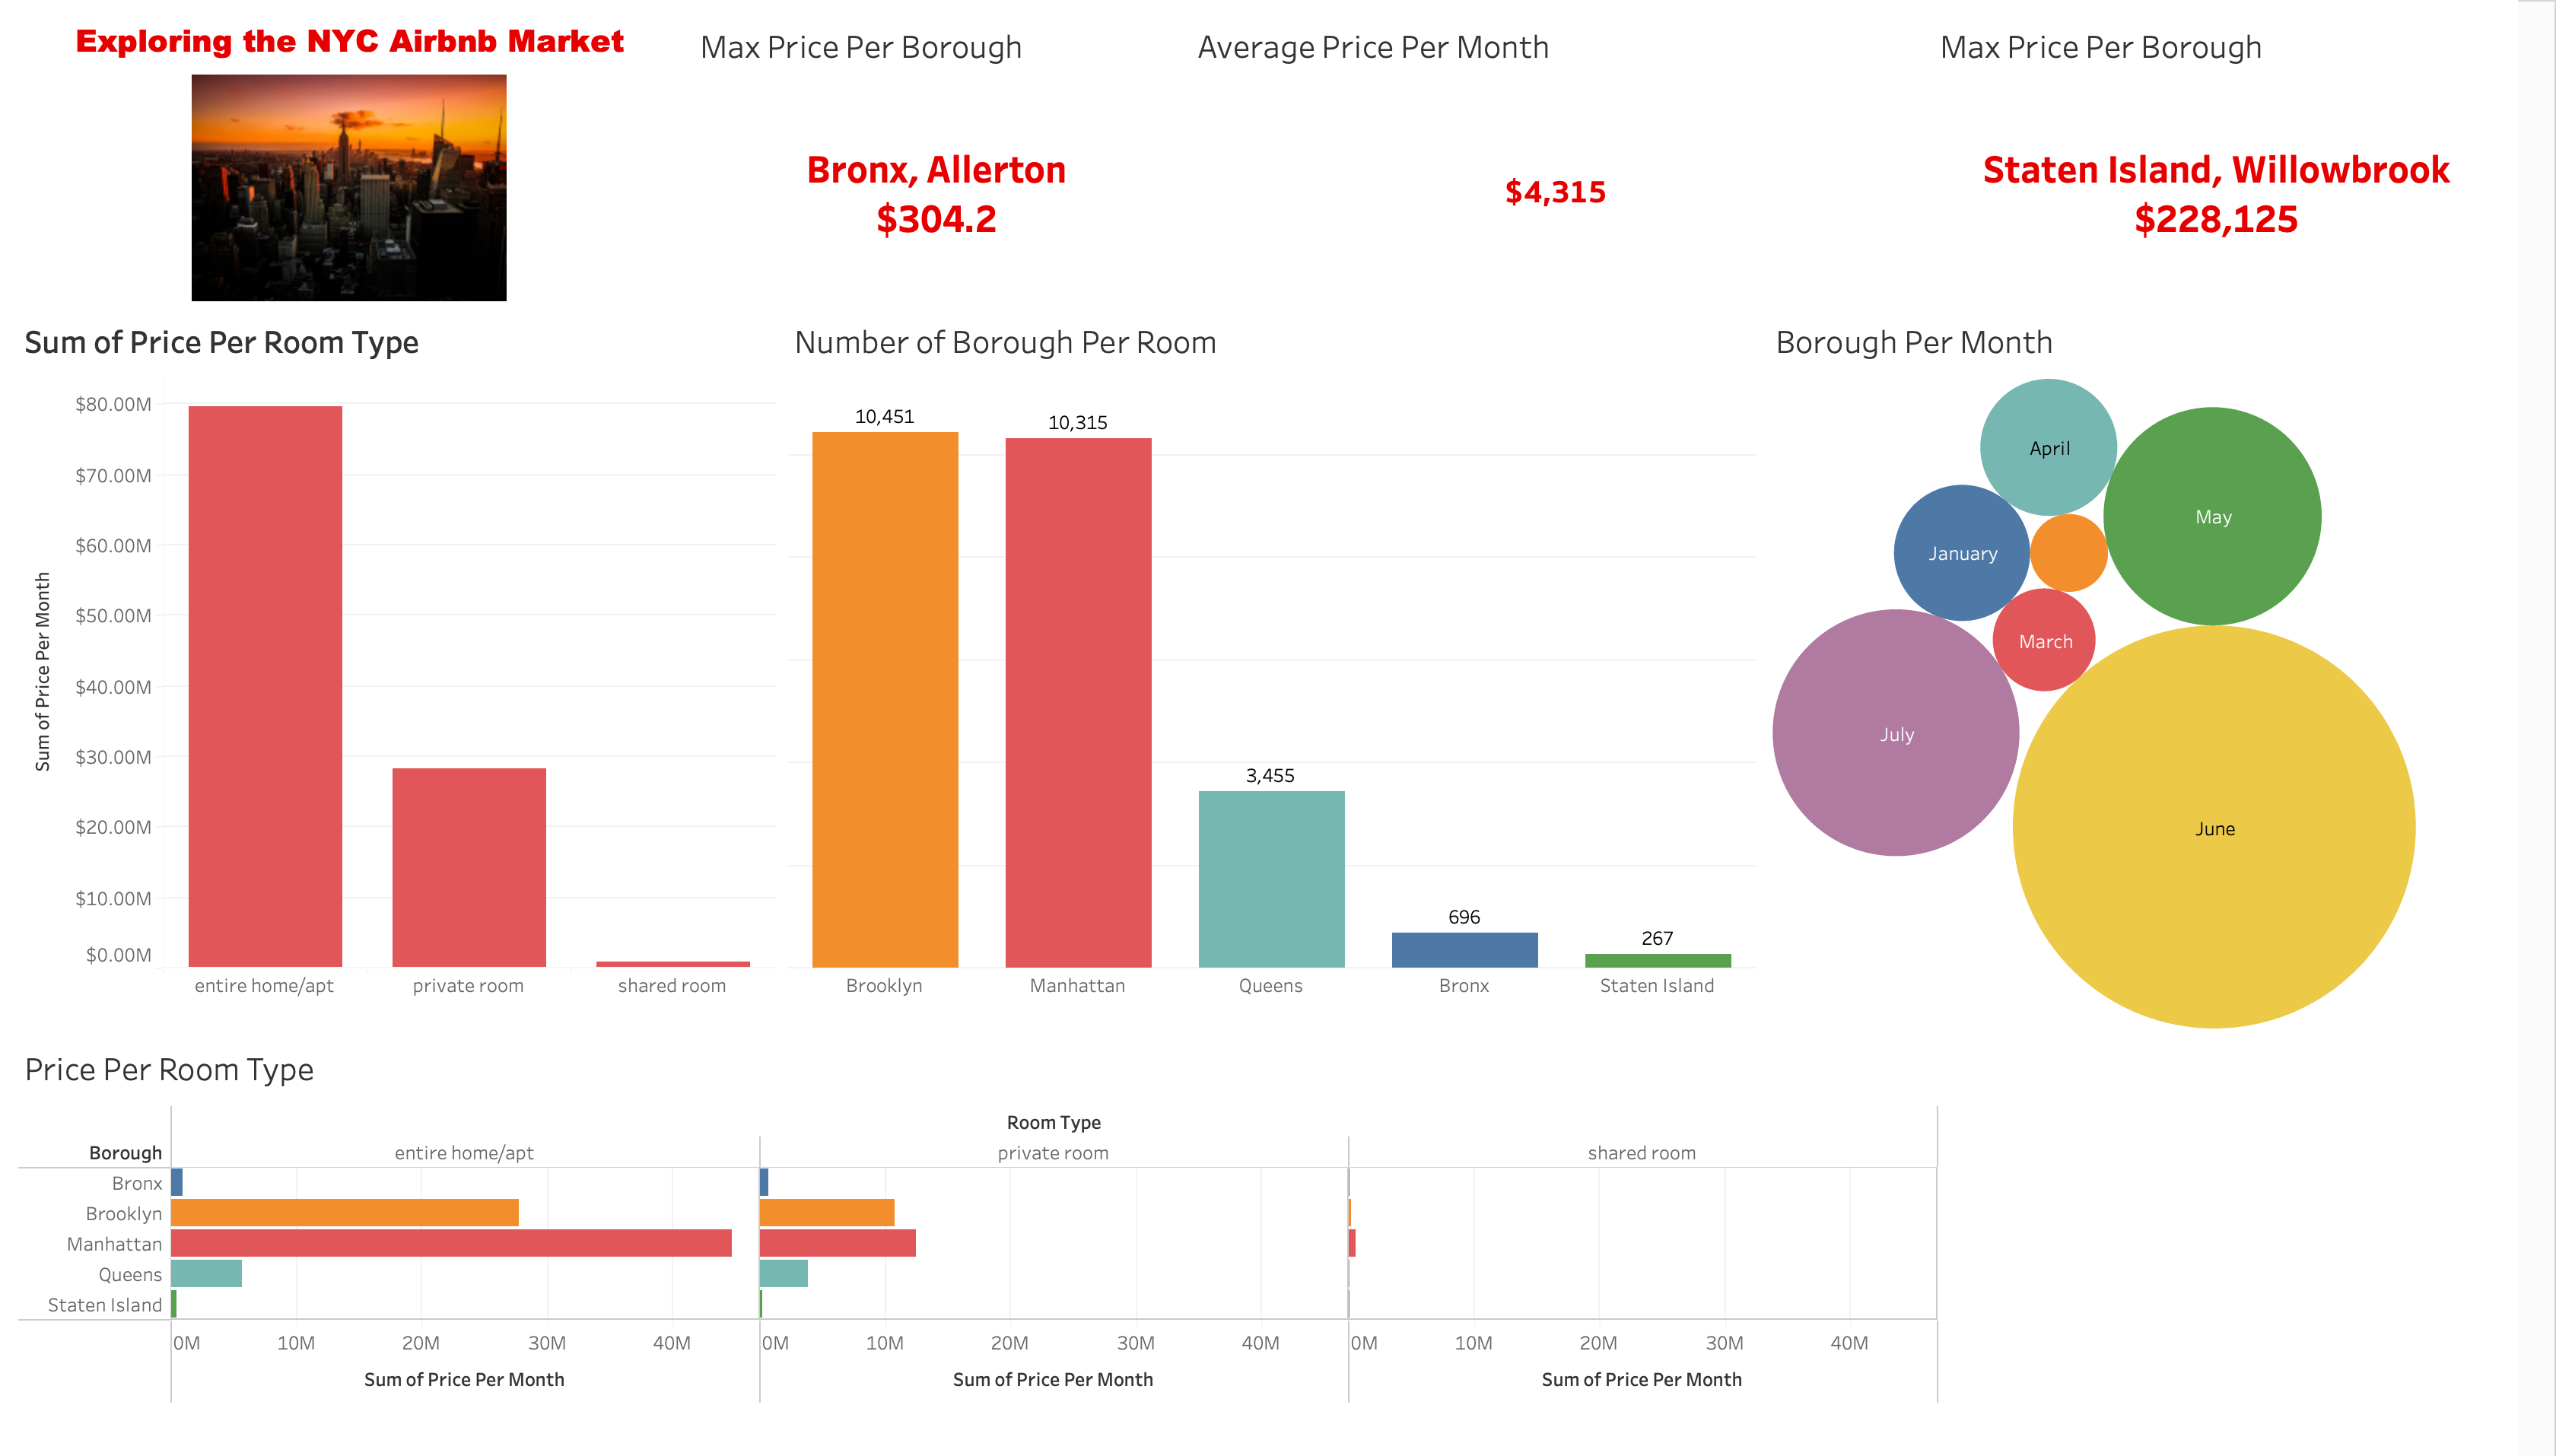

The page's visual inventory and layout, read from the dashboard file:
{"tool":"tableau","page":{"name":"Dashboard 1","canvas":[1000,1000],"units":"permille","ordinal":0},"visuals":[{"type":"text","box":[5.5,8.8,268,40.9]},{"type":"worksheet","title":"Sheet 7","mark":"Automatic","box":[273.5,8.8,226.5,190]},{"type":"worksheet","title":"Sheet 5","mark":"Automatic","box":[500,8.8,231.3,190]},{"type":"worksheet","title":"Sheet 6","mark":"Automatic","box":[731.3,8.8,263.2,190]},{"type":"image","param":"/Users/yahyamohamed/Downloads/florian-wehde-J6mySj3wntg-unsplash.jpg","box":[5.5,49.7,268,149.1]},{"type":"worksheet","title":"Sheet 1","mark":"Automatic","rows":["price_per_month"],"cols":["room_type"],"box":[5.5,198.9,305.4,467.4]},{"type":"worksheet","title":"Sheet 2","mark":"Automatic","rows":["listing_id"],"cols":["borough"],"box":[310.9,198.9,389.2,467.4]},{"type":"worksheet","title":"Sheet 3","mark":"Circle","box":[700.1,198.9,294.4,467.4]},{"type":"worksheet","title":"Sheet 4","mark":"Automatic","rows":["borough"],"cols":["room_type","price_per_month"],"box":[5.5,666.3,988.9,324.9]}]}

Visuals, with their boxes on the dashboard's canvas, which has no fixed pixel size, in thousandths of its width and height (x1, y1, x2, y2). These are canvas units, not pixel positions in the 2556x1456 screenshot, which may show the page scaled, cropped or inside an application window:
text: <bbox>6, 9, 274, 50</bbox>
"Sheet 7" worksheet: <bbox>274, 9, 500, 199</bbox>
"Sheet 5" worksheet: <bbox>500, 9, 731, 199</bbox>
"Sheet 6" worksheet: <bbox>731, 9, 994, 199</bbox>
image: <bbox>6, 50, 274, 199</bbox>
"Sheet 1" worksheet: <bbox>6, 199, 311, 666</bbox>
"Sheet 2" worksheet: <bbox>311, 199, 700, 666</bbox>
"Sheet 3" worksheet (Circle marks): <bbox>700, 199, 994, 666</bbox>
"Sheet 4" worksheet: <bbox>6, 666, 994, 991</bbox>
